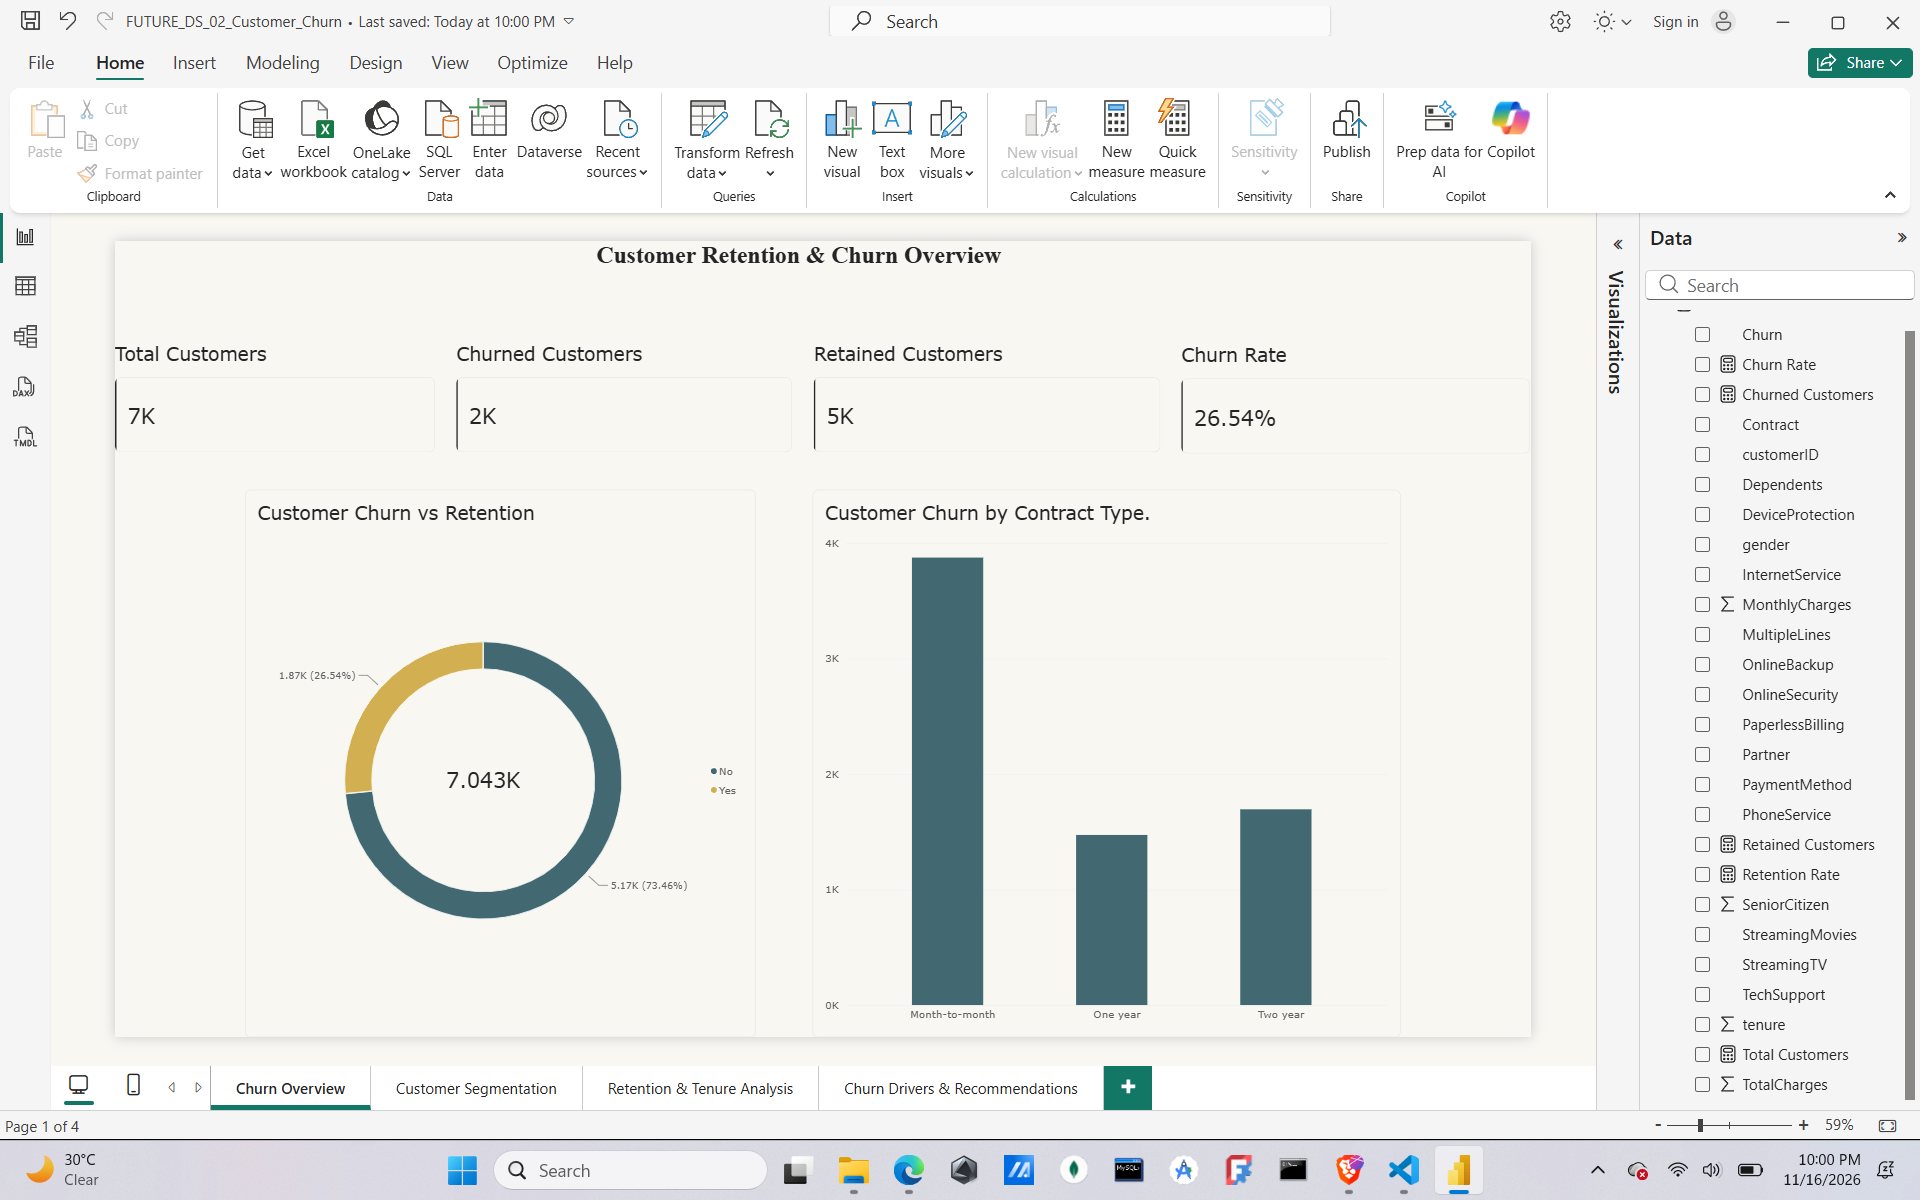

This screenshot's page, from the dashboard's own definition file:
{"tool":"powerbi","page":{"name":"Churn Overview","canvas":[1920,1080],"ordinal":0},"visuals":[{"type":"textbox","box":[0,0,1854,140],"z":0},{"type":"cardVisual","title":"Total Customers","fields":{"Data":["ChurnData.Total Customers"]},"box":[0,137.3,434.2,149.9],"z":0,"group":"g1"},{"type":"donutChart","title":"Customer Churn vs Retention","fields":{"Category":["ChurnData.Churn"],"Y":["Count(ChurnData.customerID)"]},"box":[176.2,337.5,692.5,742.5],"z":0,"group":"g2"},{"type":"group","id":"g1","title":"Group 1","box":[0,137.3,1920.3,150.8],"z":1000},{"type":"cardVisual","title":"Churned Customers","fields":{"Data":["ChurnData.Churned Customers"]},"box":[463,137.3,455.8,149.9],"z":1000,"group":"g1"},{"type":"clusteredColumnChart","title":"Customer Churn by Contract Type.","fields":{"Category":["ChurnData.Contract"],"Y":["Count(ChurnData.customerID)"]},"box":[946.2,337.5,797.5,742.5],"z":1000,"group":"g2"},{"type":"cardVisual","title":"Retained Customers","fields":{"Data":["ChurnData.Retained Customers"]},"box":[947.4,137.3,470.1,149.9],"z":2000,"group":"g1"},{"type":"group","id":"g2","title":"Group 2","box":[176.2,337.5,1567.5,742.5],"z":2000},{"type":"cardVisual","title":"Churn Rate","fields":{"Data":["ChurnData.Churn Rate"]},"box":[1446.3,139.4,473.7,149.9],"z":3000,"group":"g1"}]}

Visuals, with their boxes on the page's 1920x1080 design canvas (x1, y1, x2, y2). These are canvas units, not pixel positions in the 1920x1200 screenshot, which may show the page scaled, cropped or inside an application window:
textbox: [0, 0, 1854, 140]
"Total Customers" cardVisual: [0, 137, 434, 287]
"Customer Churn vs Retention" donutChart: [176, 338, 869, 1080]
"Group 1" group: [0, 137, 1920, 288]
"Churned Customers" cardVisual: [463, 137, 919, 287]
"Customer Churn by Contract Type." clusteredColumnChart: [946, 338, 1744, 1080]
"Retained Customers" cardVisual: [947, 137, 1418, 287]
"Group 2" group: [176, 338, 1744, 1080]
"Churn Rate" cardVisual: [1446, 139, 1920, 289]
